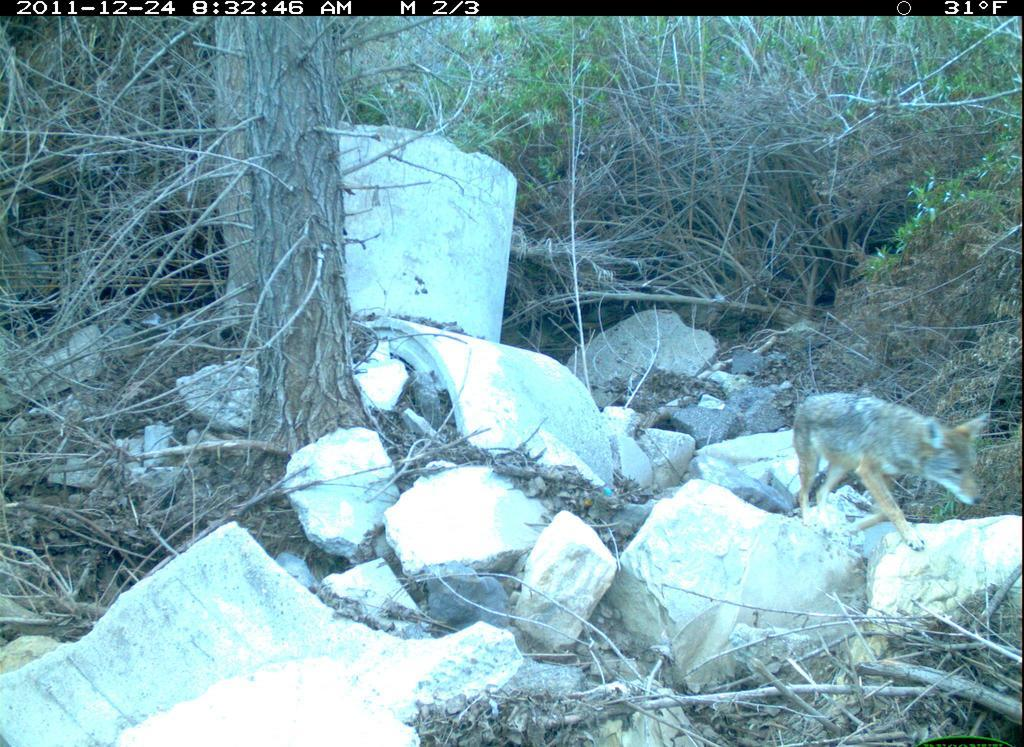coyote: (771, 364, 1016, 551)
